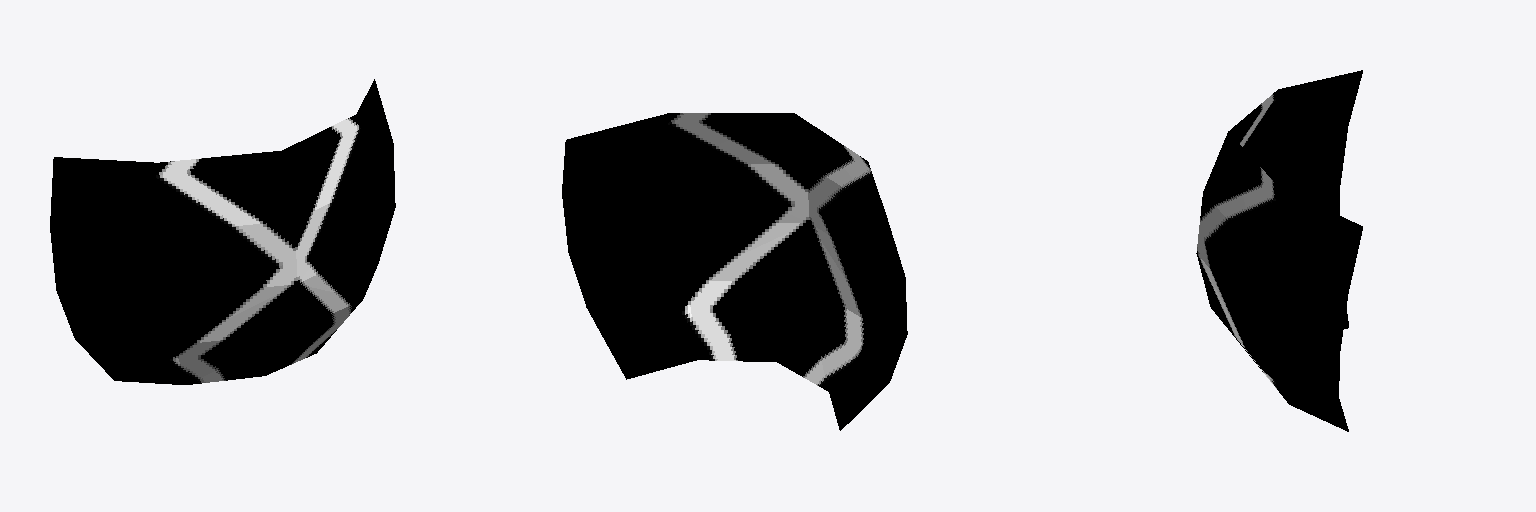
The picture shows the model from 3 angles: view 1: azimuth 30°, elevation 25°; view 2: azimuth 150°, elevation 25°; view 3: azimuth 270°, elevation 25°; orthographic projection.
Parts seen in each view (by area): view 1: polygon0; view 2: polygon0; view 3: polygon0.
Part boxes in pixels (x1,y1,x2,y2): polygon0: (50,79,395,384); polygon0: (562,113,907,430); polygon0: (1196,70,1362,431).
Size of the model in its own units: 4.04 by 2.79 by 1.7.
Materials: 1 (1 with a texture image).